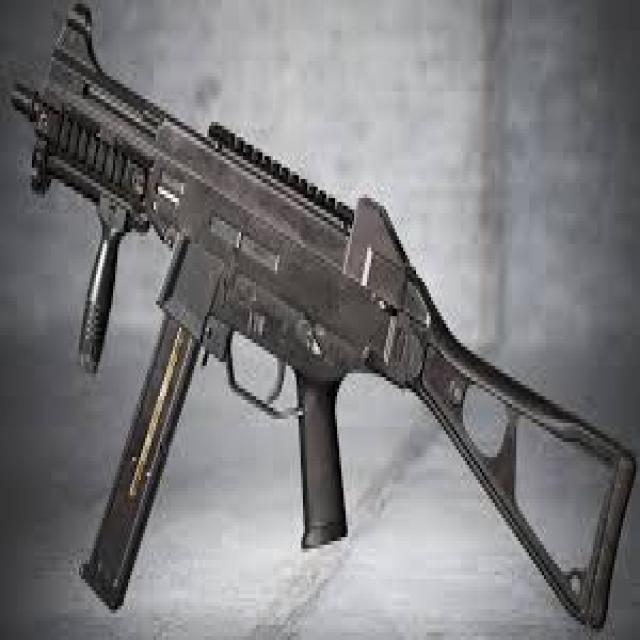Gun: (17, 7, 634, 630)
